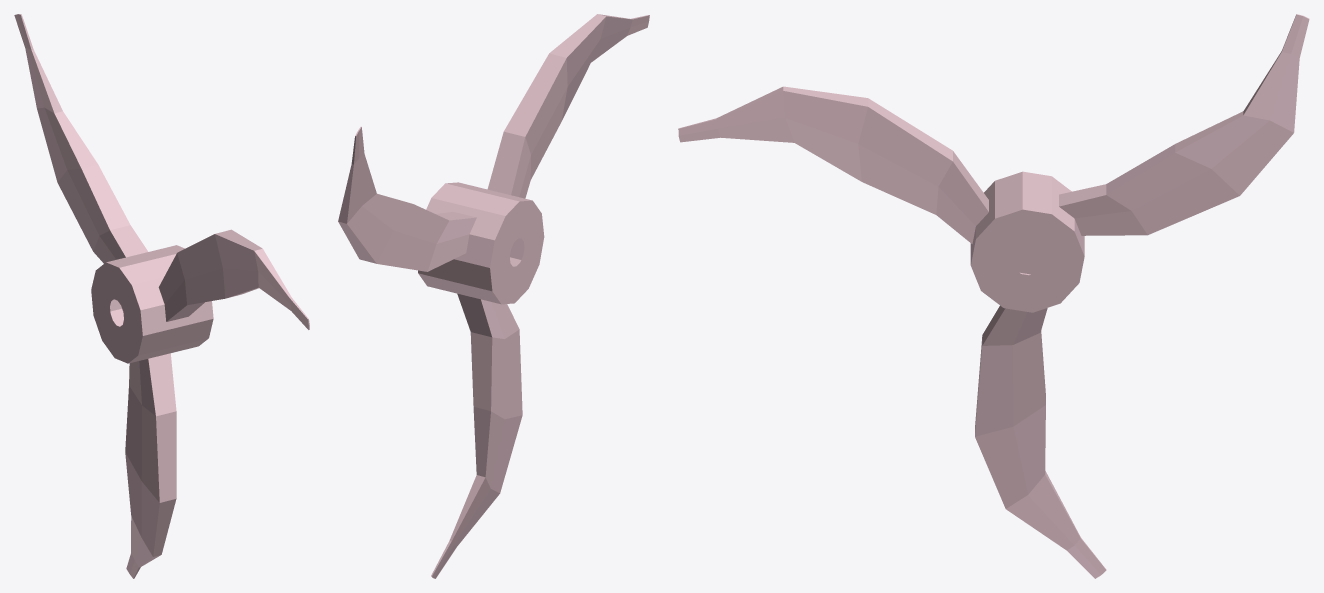
Rendered from shipRotor.fbx.
3 renders of one model, left to right at view 1: azimuth 30°, elevation 25°; view 2: azimuth 150°, elevation 25°; view 3: azimuth 270°, elevation 25°, orthographic. The views are drawn at different scales.
Visible parts, largest first — view 1: Rotor.005; view 2: Rotor.005; view 3: Rotor.005.
Boxes of the visible parts, <box> form: Rotor.005: <box>14,14,309,578</box>; Rotor.005: <box>338,14,649,578</box>; Rotor.005: <box>678,14,1309,578</box>.
Size of the model in its own units: 68.95 by 468 by 484.
